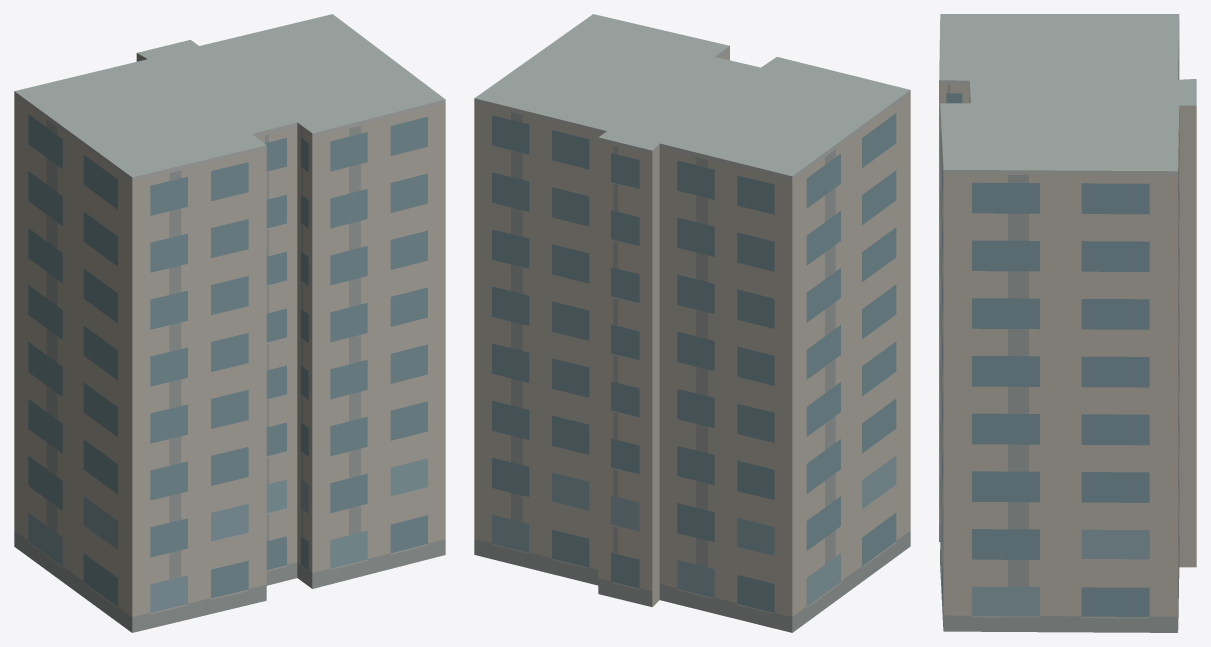
The model's file is survey-upis-33030861.glb.
The picture shows the model from 3 angles, left to right: view 1: azimuth 30°, elevation 25°; view 2: azimuth 150°, elevation 25°; view 3: azimuth 270°, elevation 25°; orthographic projection.
Parts seen in each view (by area): view 1: survey-upis-33030861.tmp; view 2: survey-upis-33030861.tmp; view 3: survey-upis-33030861.tmp.
Part boxes in pixels (box(x1,y1,x2,y2)): survey-upis-33030861.tmp: box(14, 14, 445, 632); survey-upis-33030861.tmp: box(474, 14, 910, 632); survey-upis-33030861.tmp: box(939, 14, 1196, 632).
Bounding box in the file's own units: 17.39 × 23.8 × 12.05.
